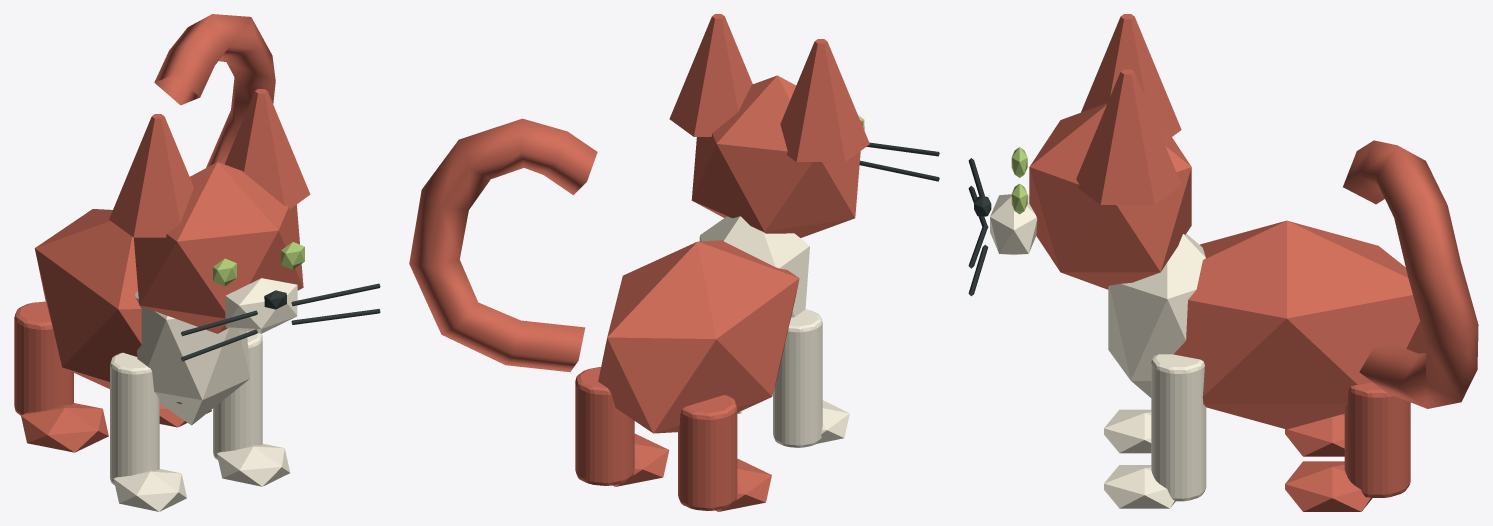
File: cat-v2.glb
3 views of the same model, side by side, from view 1: azimuth 30°, elevation 25°; view 2: azimuth 150°, elevation 25°; view 3: azimuth 270°, elevation 25° (orthographic). The views are drawn at different scales.
Parts seen in each view (by area): view 1: COMMUNITY CAT ASSEMBLY · Terracotta, COMMUNITY CAT ASSEMBLY · Chalk, COMMUNITY CAT ASSEMBLY · Ink, COMMUNITY CAT ASSEMBLY · Plant lime; view 2: COMMUNITY CAT ASSEMBLY · Terracotta, COMMUNITY CAT ASSEMBLY · Chalk, COMMUNITY CAT ASSEMBLY · Ink; view 3: COMMUNITY CAT ASSEMBLY · Terracotta, COMMUNITY CAT ASSEMBLY · Chalk, COMMUNITY CAT ASSEMBLY · Ink, COMMUNITY CAT ASSEMBLY · Plant lime.
Part boxes in pixels (bbox=[...]): COMMUNITY CAT ASSEMBLY · Terracotta: bbox=[14, 14, 310, 452]; COMMUNITY CAT ASSEMBLY · Chalk: bbox=[110, 278, 297, 511]; COMMUNITY CAT ASSEMBLY · Ink: bbox=[181, 283, 380, 361]; COMMUNITY CAT ASSEMBLY · Plant lime: bbox=[213, 242, 304, 286]; COMMUNITY CAT ASSEMBLY · Terracotta: bbox=[409, 14, 869, 511]; COMMUNITY CAT ASSEMBLY · Chalk: bbox=[699, 216, 849, 447]; COMMUNITY CAT ASSEMBLY · Ink: bbox=[859, 142, 939, 181]; COMMUNITY CAT ASSEMBLY · Terracotta: bbox=[1029, 14, 1478, 511]; COMMUNITY CAT ASSEMBLY · Chalk: bbox=[990, 194, 1206, 508]; COMMUNITY CAT ASSEMBLY · Ink: bbox=[968, 158, 991, 296]; COMMUNITY CAT ASSEMBLY · Plant lime: bbox=[1011, 147, 1027, 214].
Bounding box in the file's own units: 1.37 × 1.69 × 1.79.
